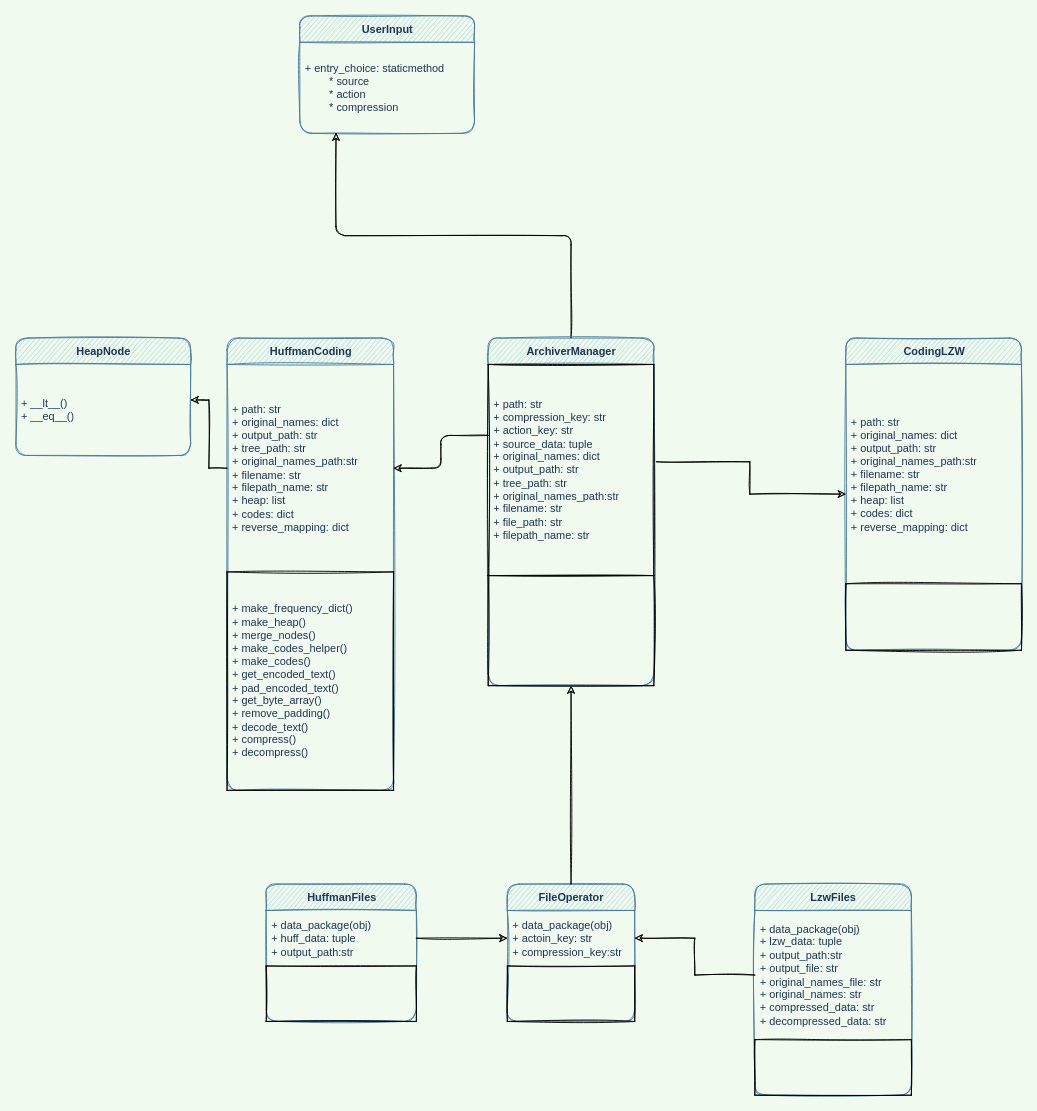
This 1037x1111 diagram has some shape labels left out. The shapes that lost their labels are listed below. From the top down, each one's centre as x and y in pixels, then its label:
pixel 570 630: + manage_source() + manage_compression()
pixel 933 616: + compress() + decompress()
pixel 340 993: + huffman_compress() + huffman_decompress()
pixel 570 993: + commands()
pixel 832 1067: + lzw_compress() + lzw_decompress()
